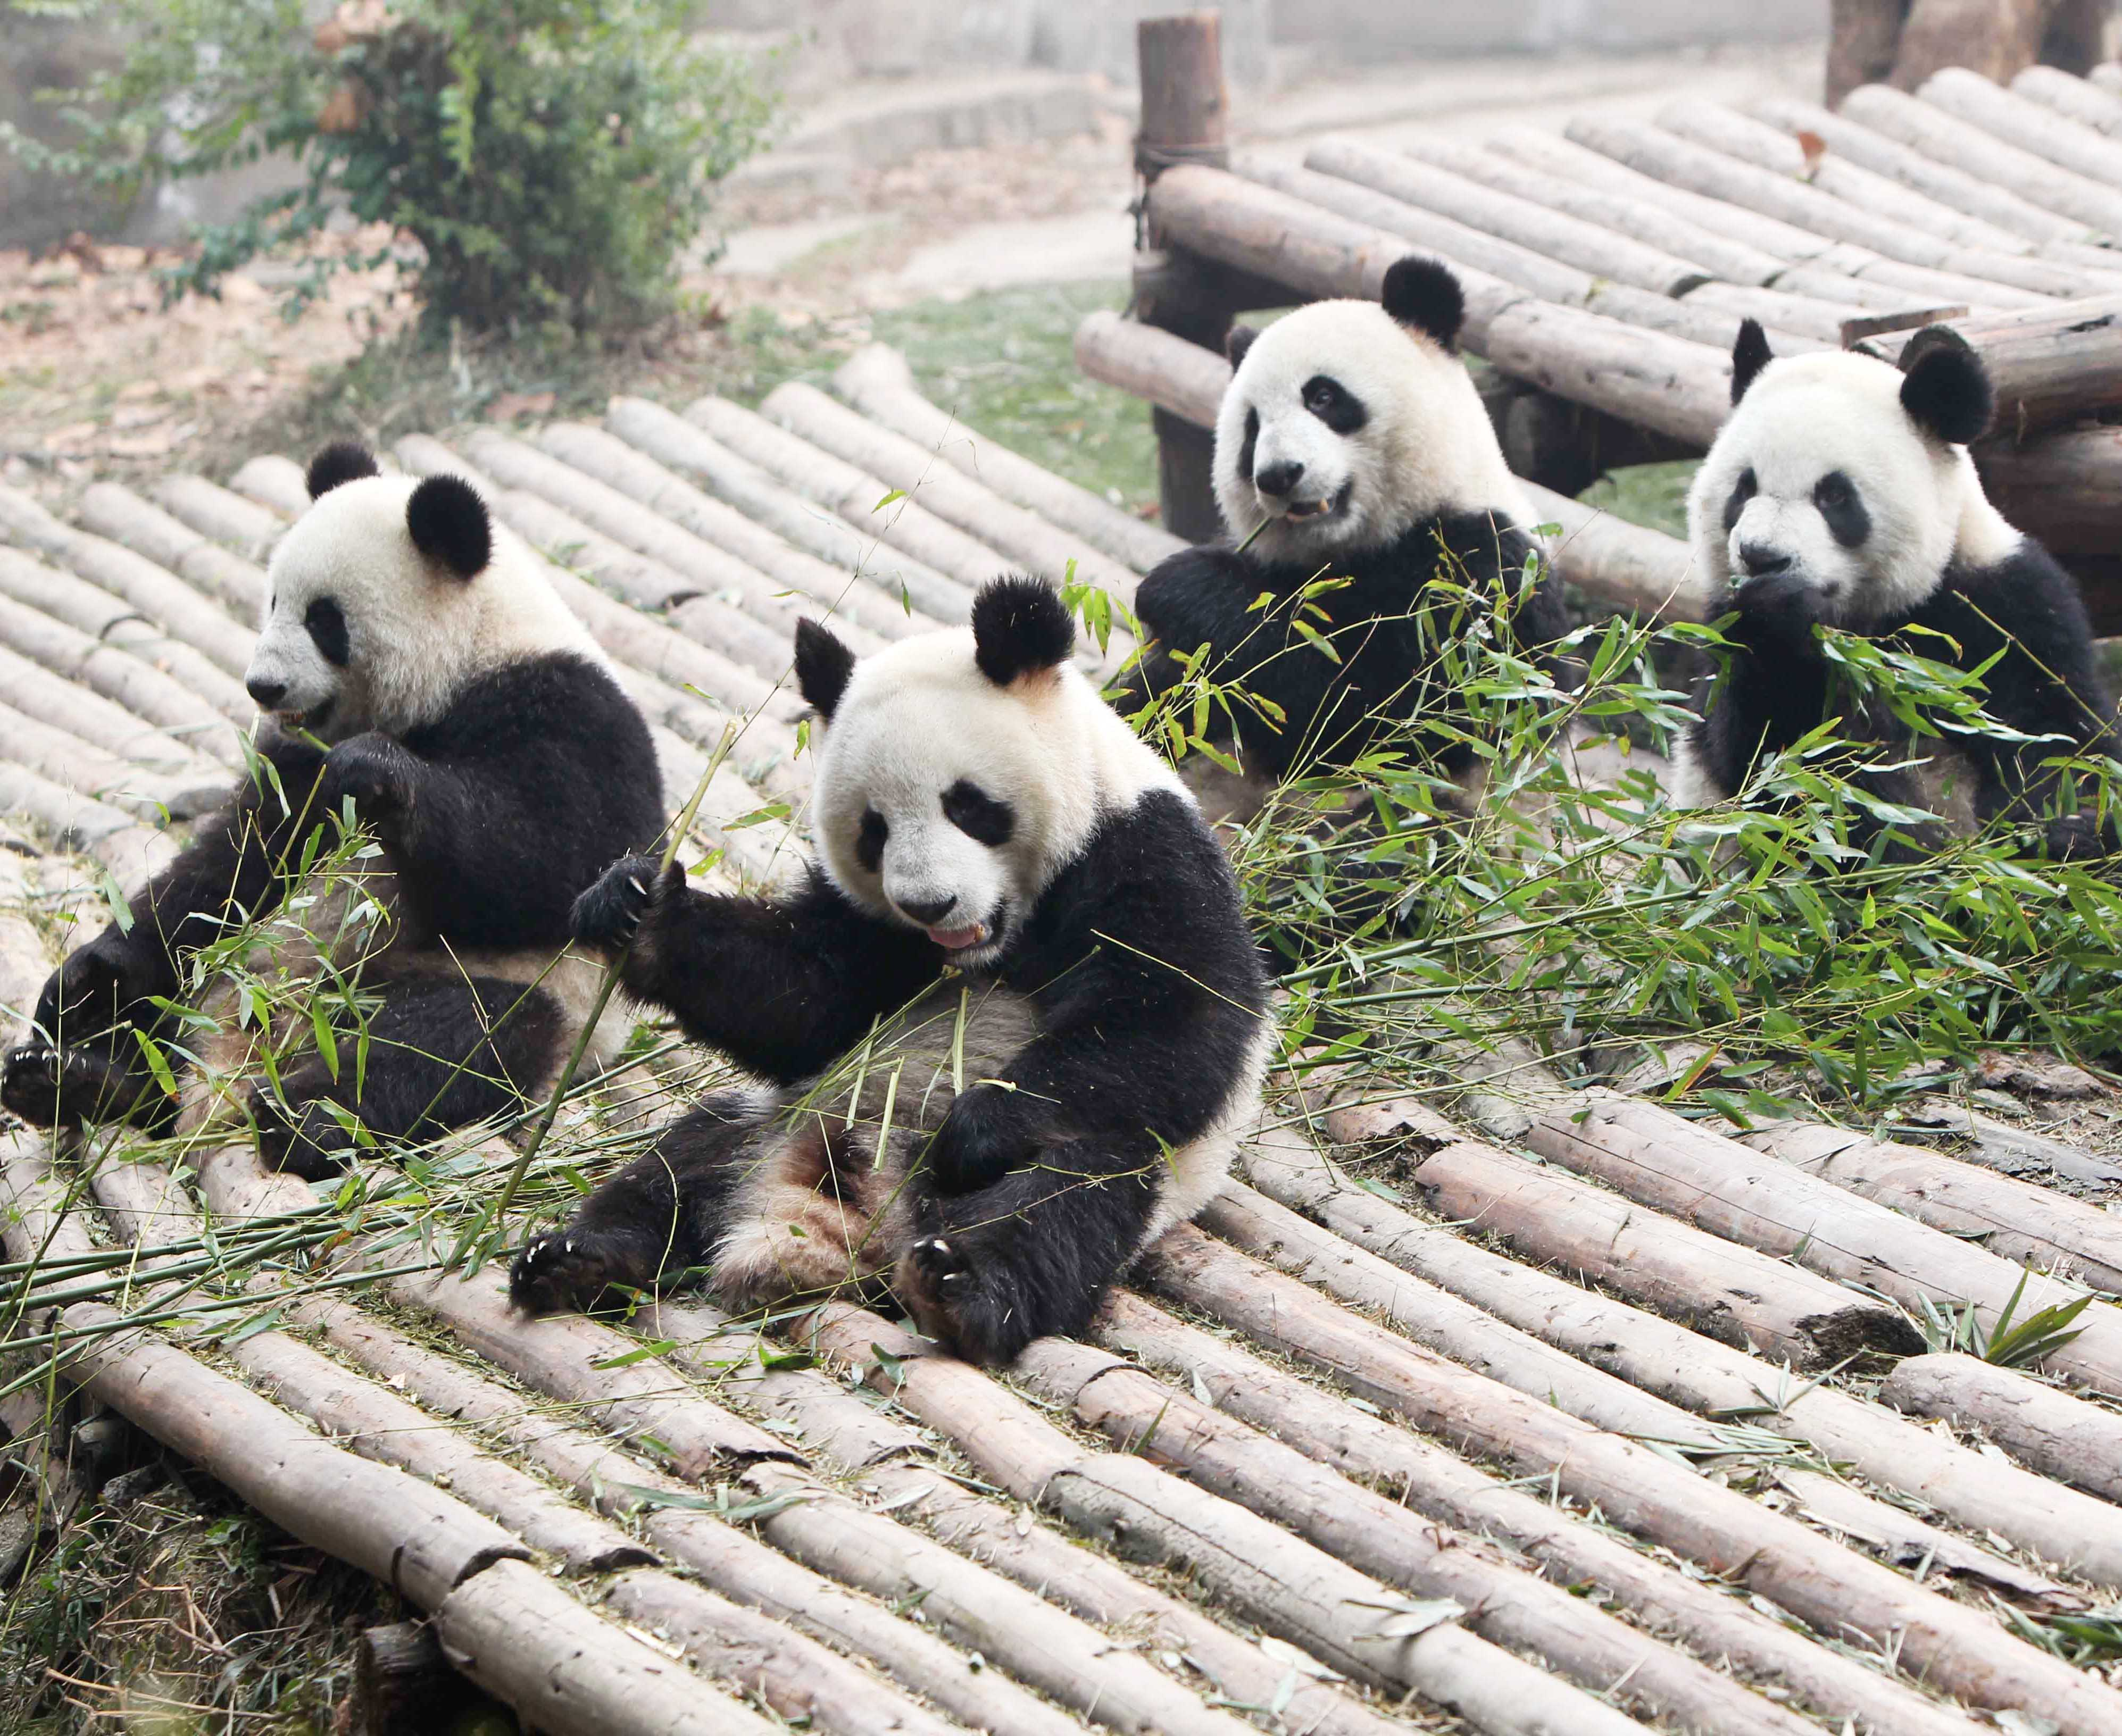panda: (576, 592, 1308, 1403), (56, 423, 650, 1204), (1602, 294, 2122, 945), (1130, 282, 1586, 798)
